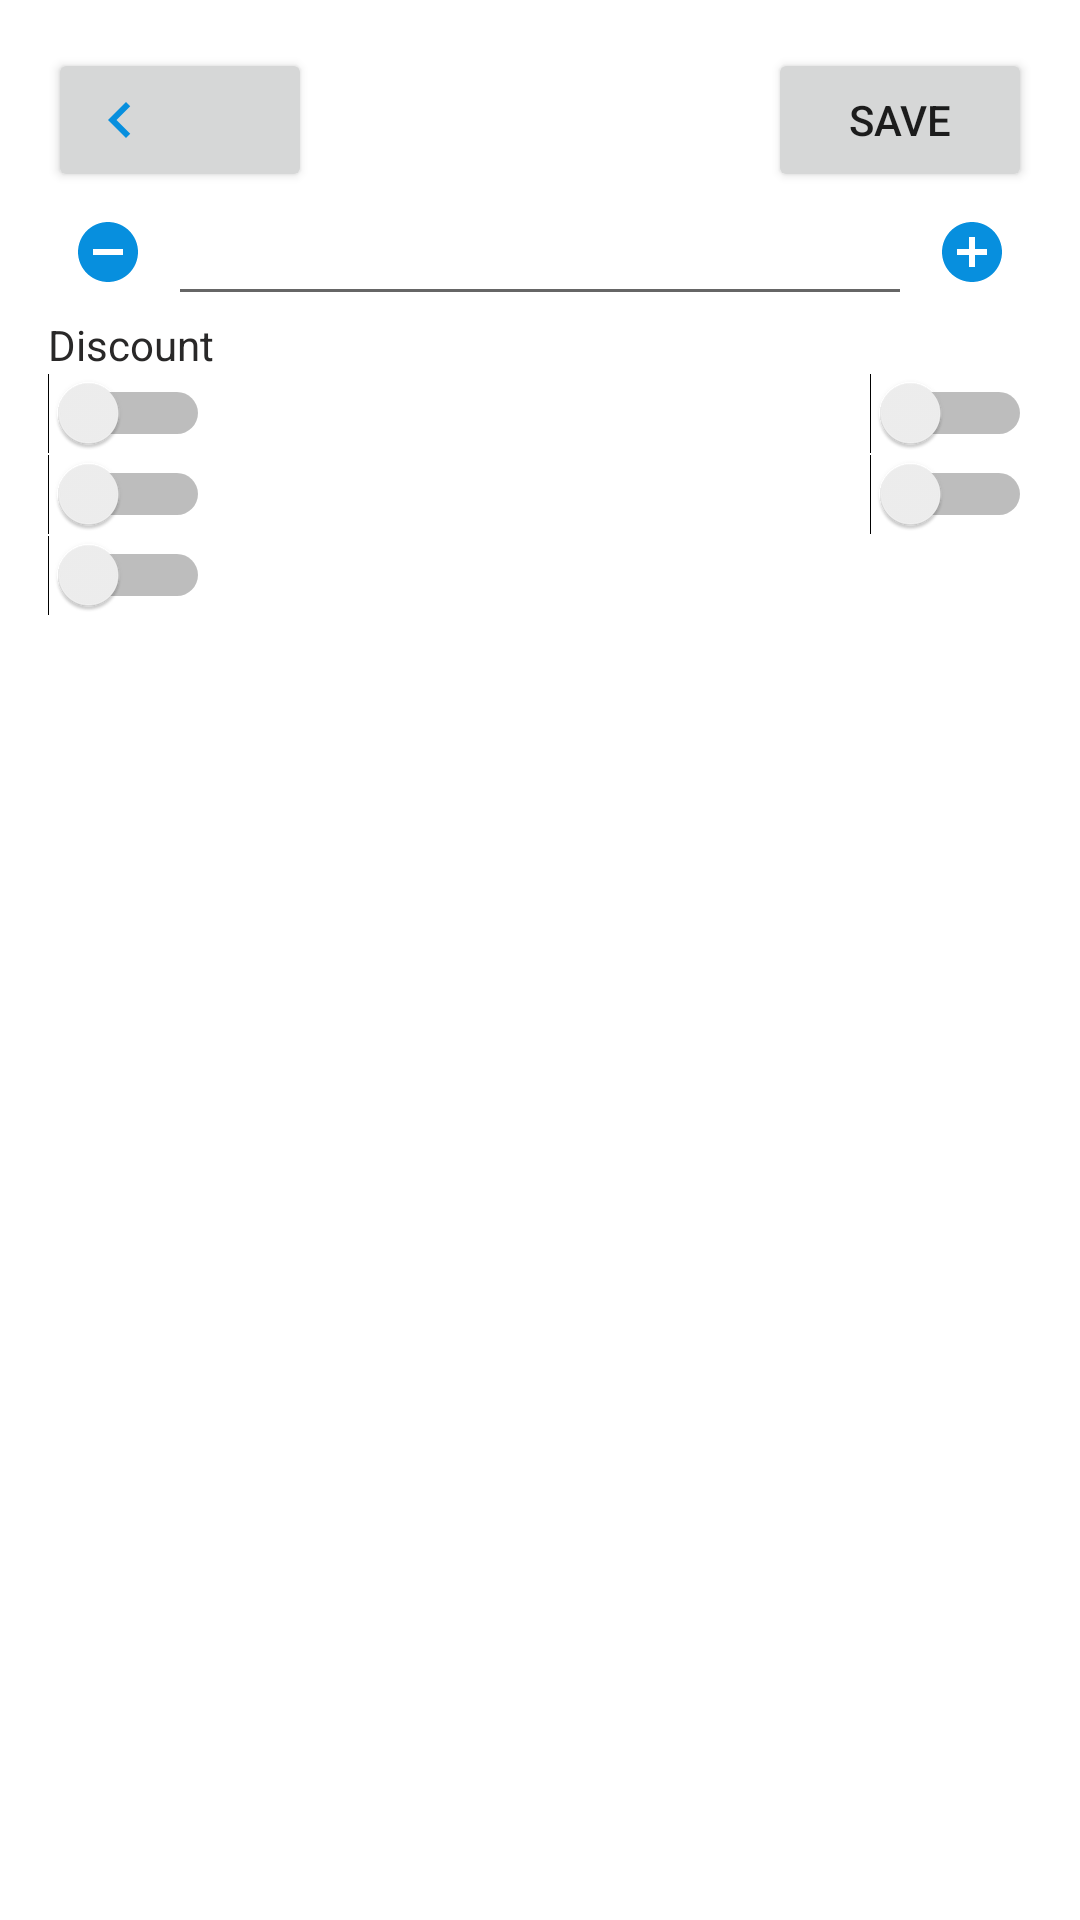

Point at icon controls on the screen. Image size 1080×1920, points as point (x, y).
decrement: point (108, 252)
increment: point (972, 252)
